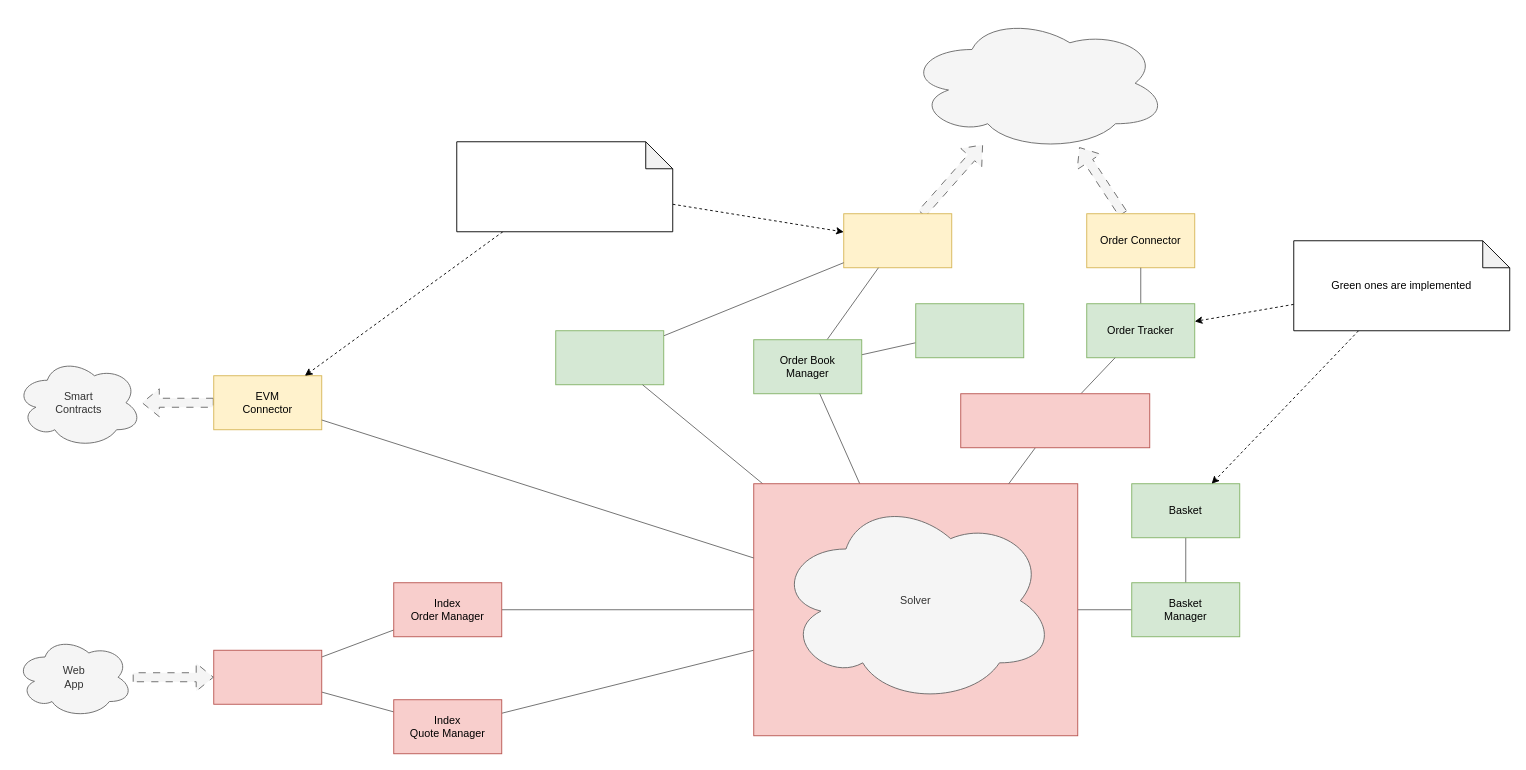
Some shapes in this 1526 by 770 pixel diagram are drawn without their labels. Each missing label, with the centre of its shape:
"Binance" belongs at (x=1037, y=83).
"Binance Price Tracker" belongs at (x=609, y=357).
"FIX Server (REST/WS)" belongs at (x=267, y=676).
"Inventory Manager" belongs at (x=1055, y=420).
"Market Data Connector" belongs at (x=897, y=240).
"Order Book" belongs at (x=969, y=330).
"Yellow ones are mocked" belongs at (x=564, y=186).
